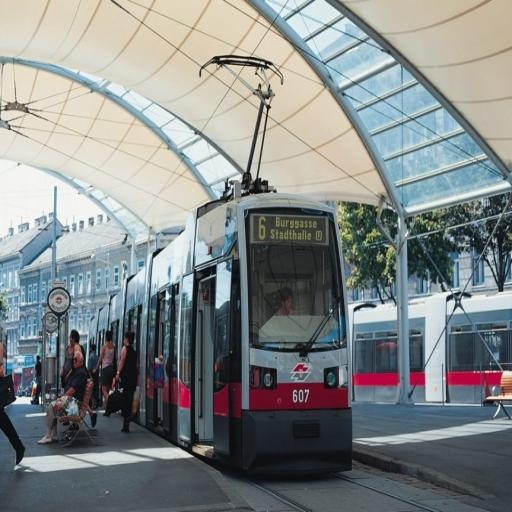ULF: (82, 186, 353, 479)
